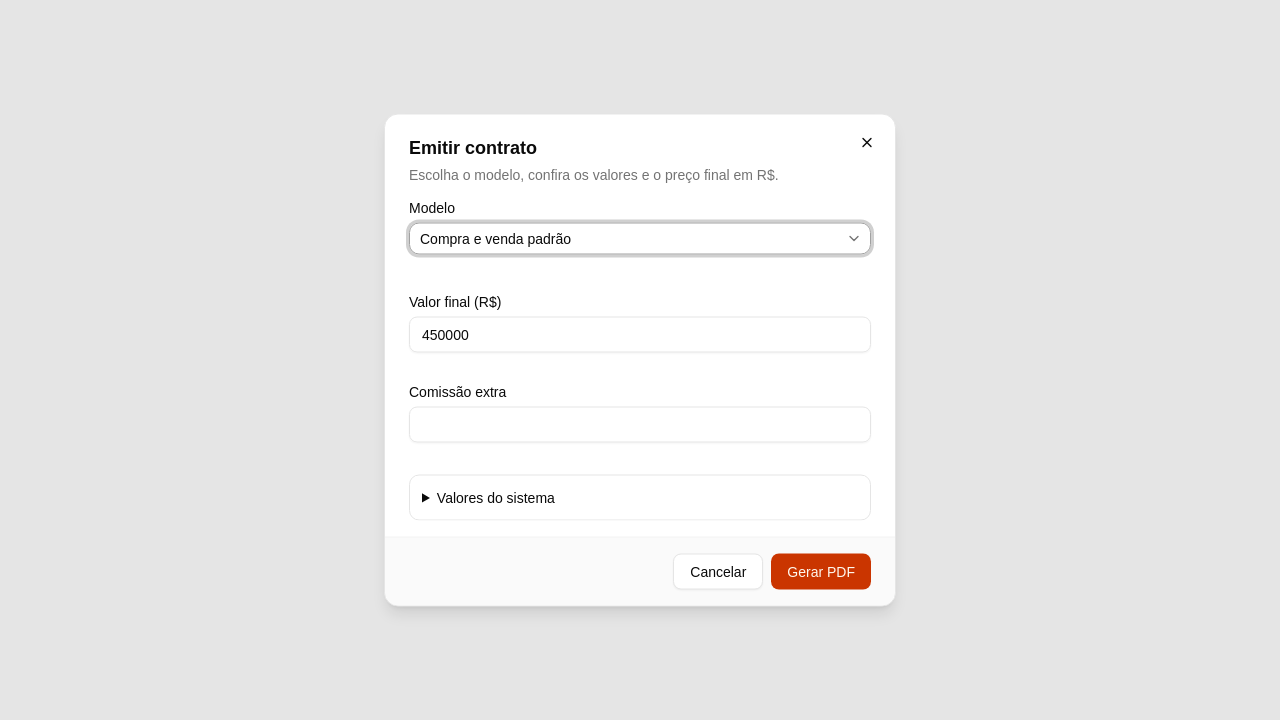
Test case: BuilderIssueContractDialog › shows the missing client data returned by the issue endpoint
Type "R$ 5.000" into the field labelled "Comissão extra" at (640, 424), box [409,406,871,442]
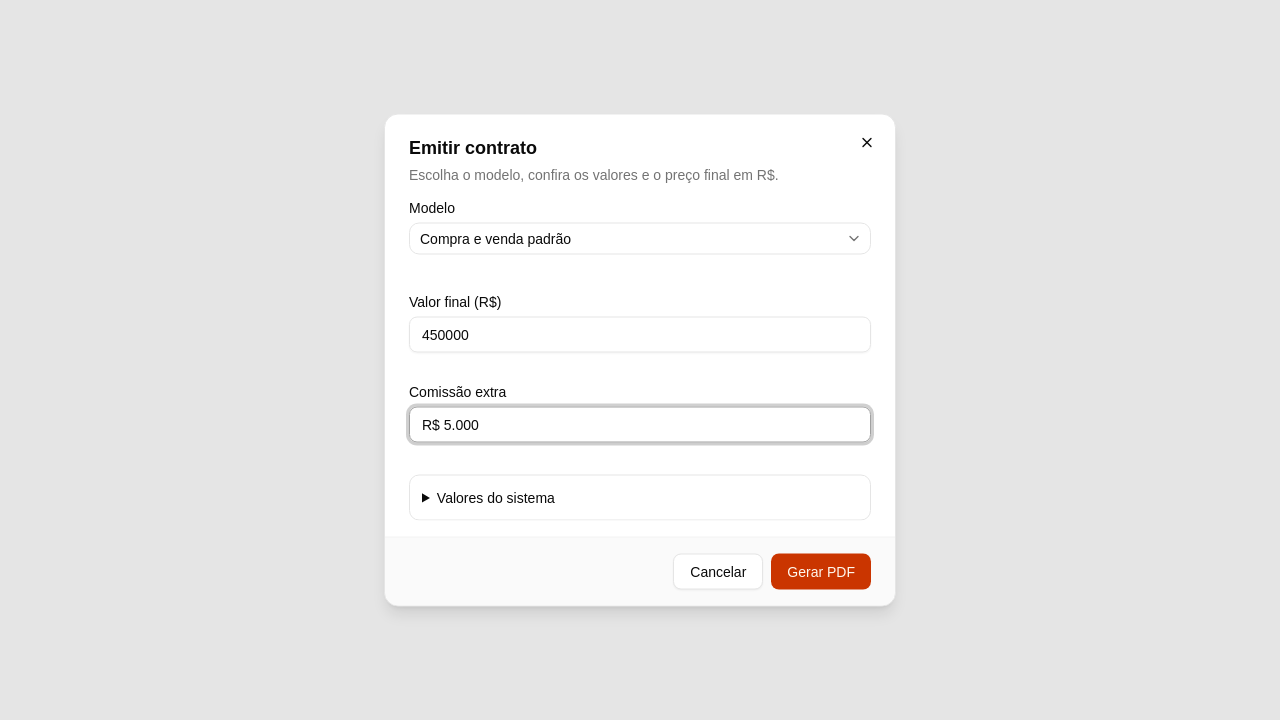
Click the button "Gerar PDF" at (821, 572), box [771,554,871,590]
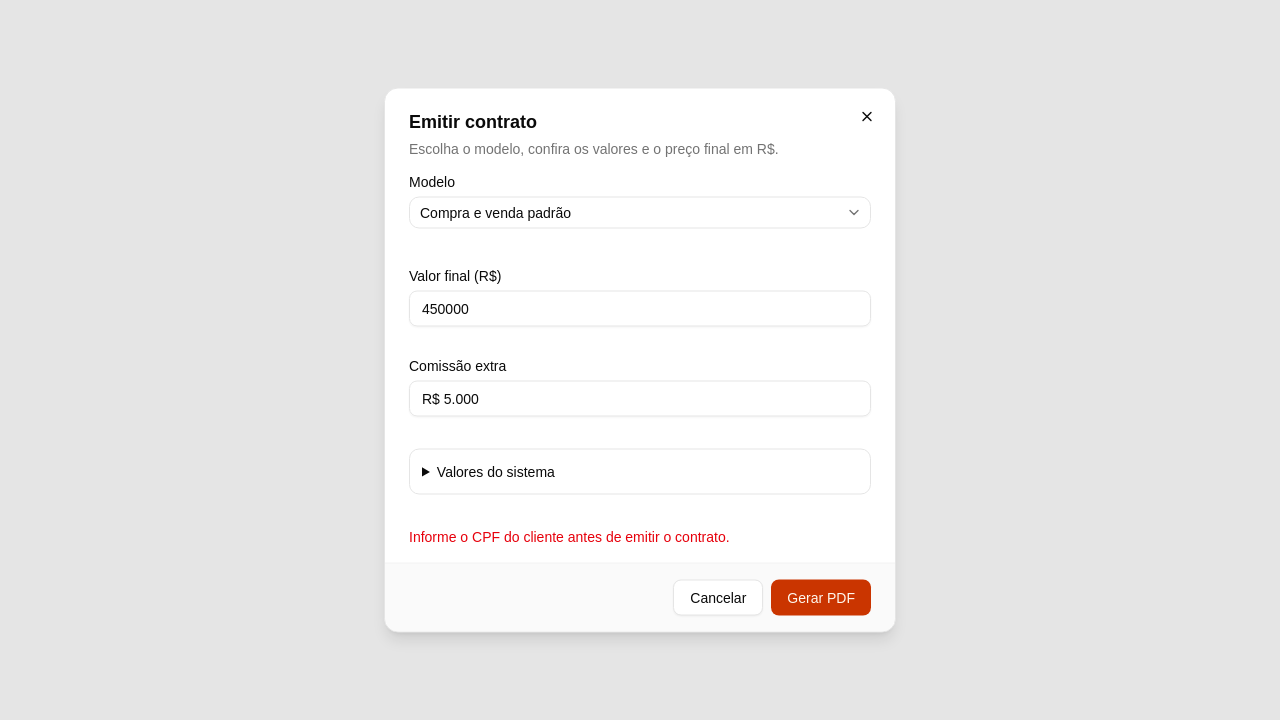
Result: the text "Informe o CPF do cliente antes de emitir o contrato." is shown at [409,528,730,544]
